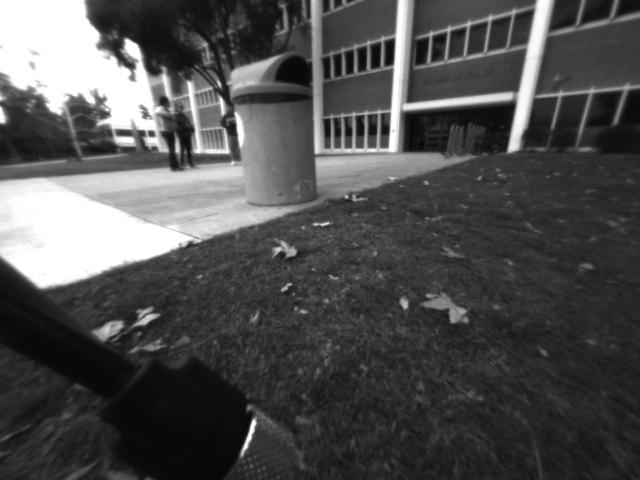trashcan: (223, 50, 330, 209)
